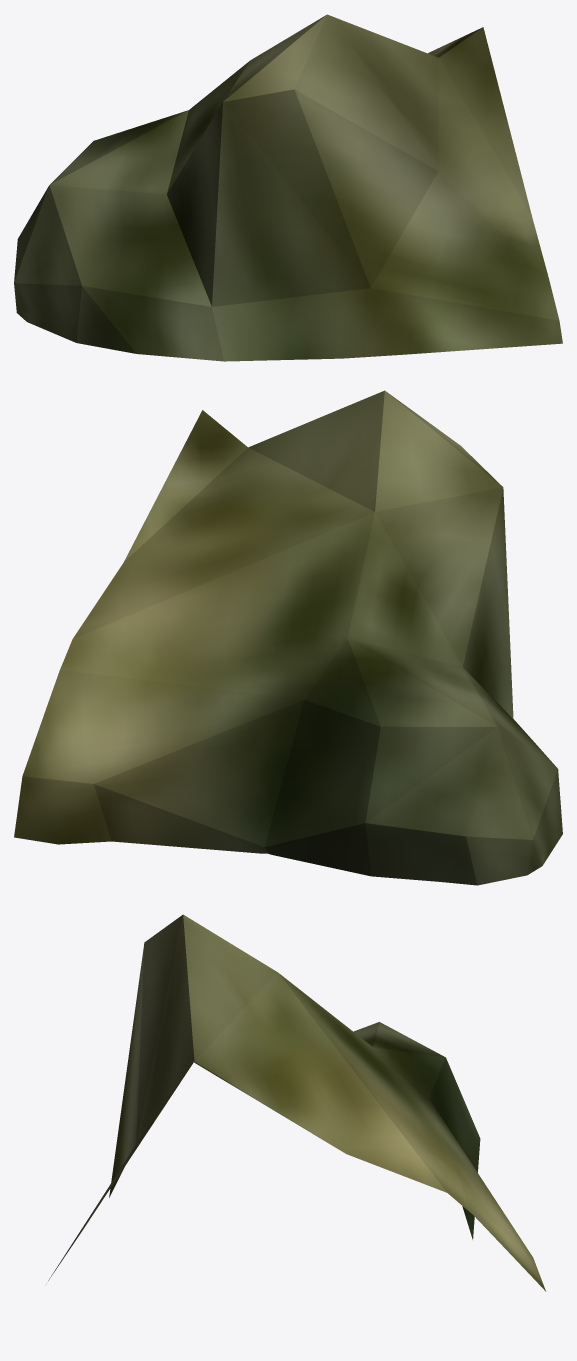
3 renders of one model, top to bottom at view 1: azimuth 30°, elevation 25°; view 2: azimuth 150°, elevation 25°; view 3: azimuth 270°, elevation 25°, orthographic. The views are drawn at different scales.
Bounding box in the file's own units: 0.2168 × 0.1693 × 0.2435.
1 material, 1 textured.
